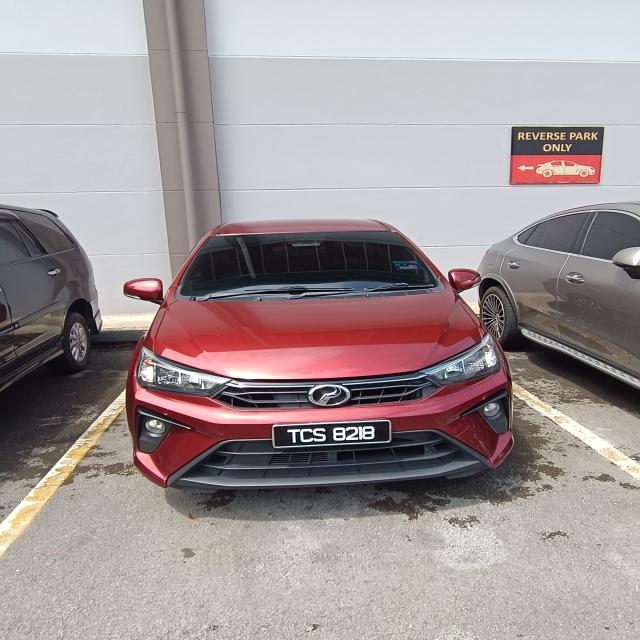PeroduaBezza: (122, 217, 516, 492)
